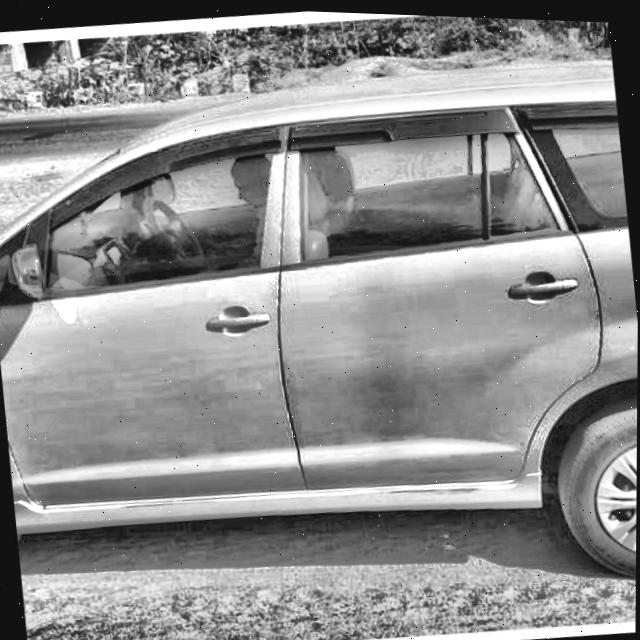light_vehicle: (0, 31, 640, 638)
